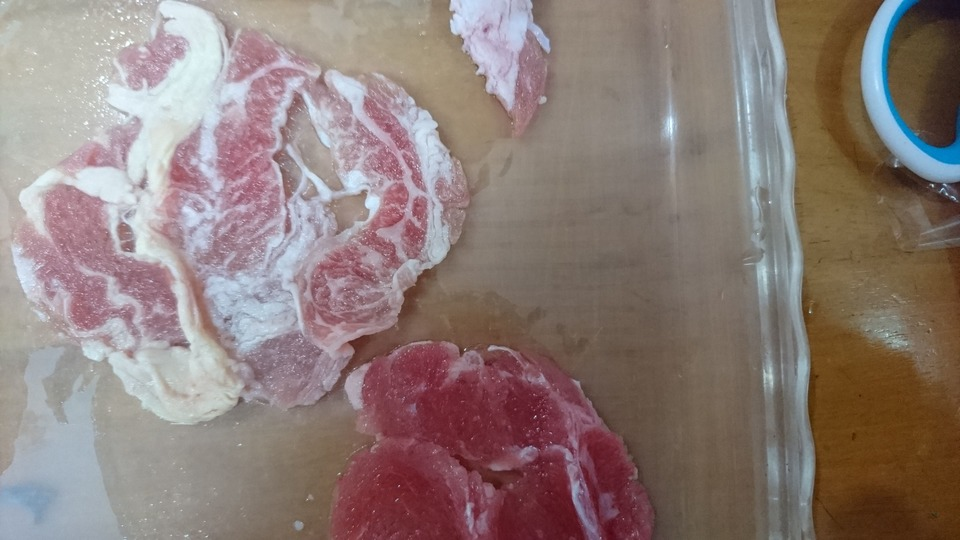restructured meat: (36, 29, 461, 378), (352, 354, 661, 540)
